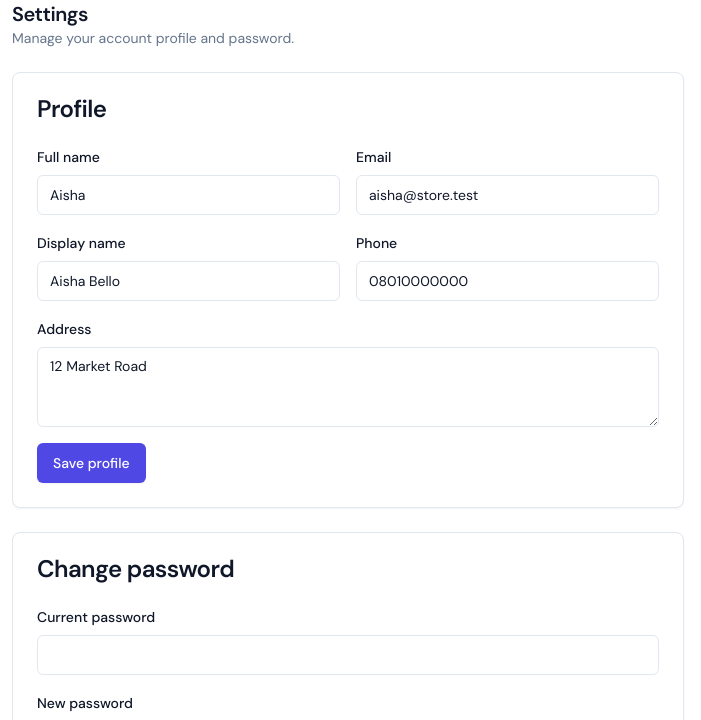
it: Settings › rejects a new password shorter than 8 characters
The width and height of the screenshot is (701, 720).
Check: the field showing "Aisha Bello" is shown, box top-left (37, 261), bottom-right (340, 301)
Type "secret123" into the password field labelled "Current password" at point(348, 655), box top-left (37, 635), bottom-right (659, 675)
(page scrolled)
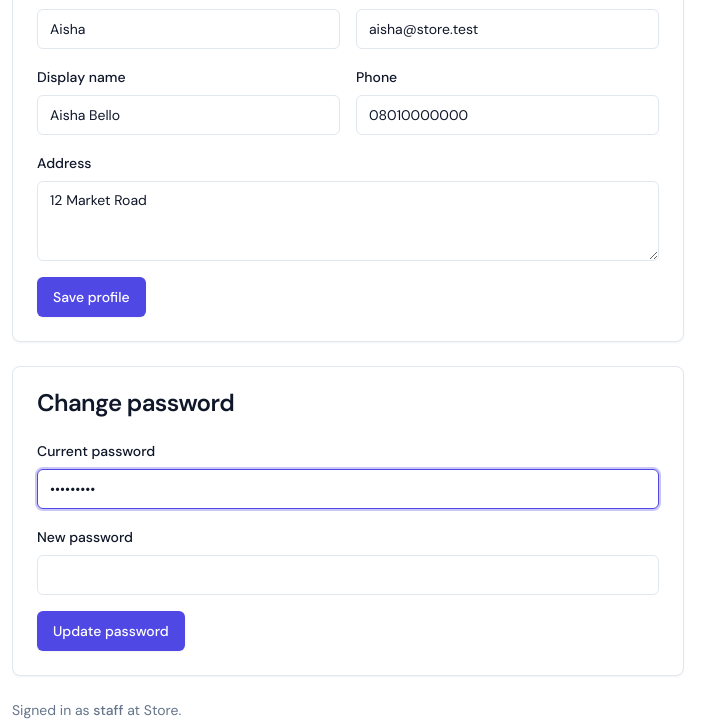
Type "short" into the password field labelled "New password" at point(348, 575), box top-left (37, 555), bottom-right (659, 595)
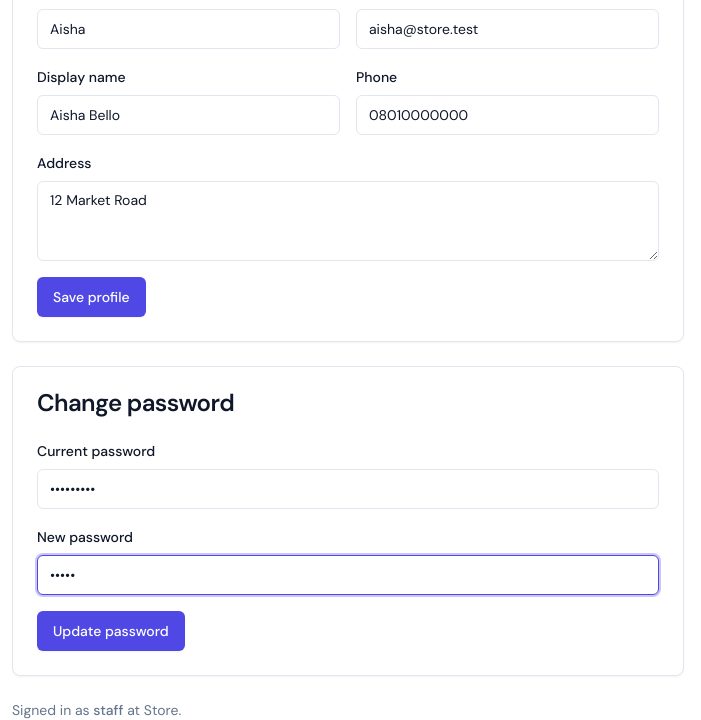
Click the button "Update password" at point(111, 631), box top-left (37, 611), bottom-right (185, 651)
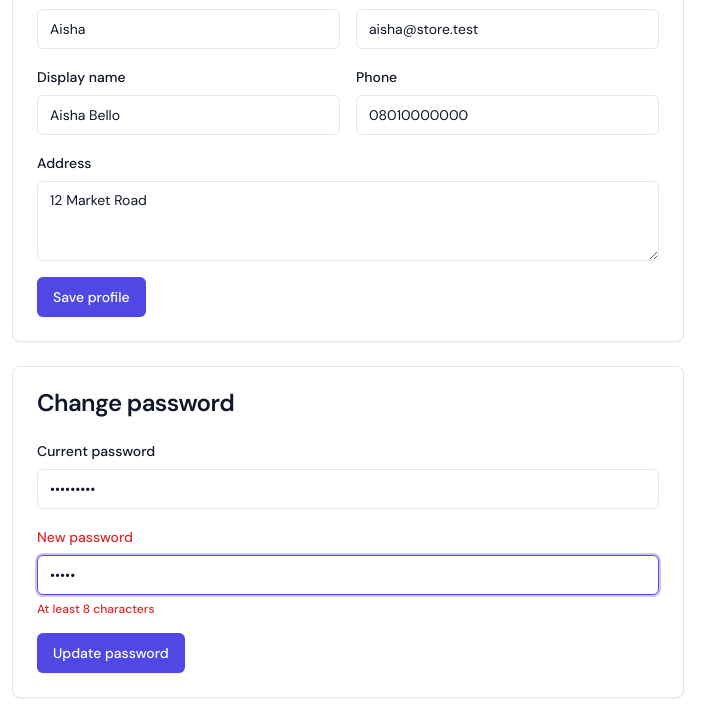
Check: the text "At least 8 characters" is shown, box top-left (37, 601), bottom-right (154, 617)
